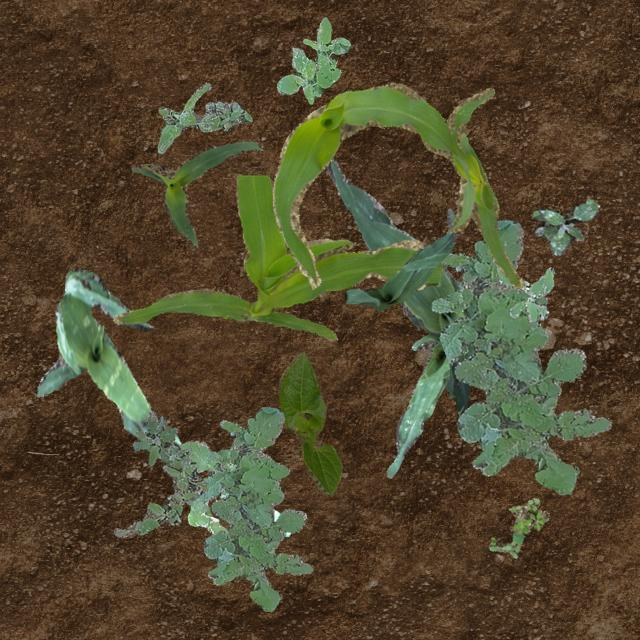crop: (111, 173, 441, 340), (270, 81, 522, 286), (326, 157, 474, 416), (34, 267, 180, 443), (130, 140, 262, 248), (344, 208, 456, 310), (276, 350, 342, 496), (386, 332, 448, 477), (218, 486, 290, 536)
weed: (430, 218, 610, 494), (196, 406, 312, 610), (112, 458, 206, 536), (156, 82, 252, 152), (276, 17, 350, 102), (178, 440, 236, 532), (532, 198, 598, 254), (488, 497, 548, 558), (494, 262, 554, 322), (132, 411, 190, 466)
